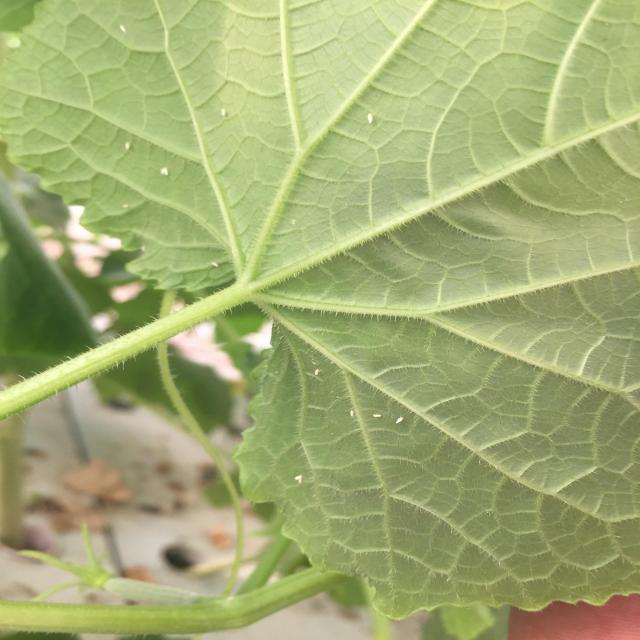Whitefly: (104, 122, 208, 196), (331, 388, 428, 436), (347, 98, 415, 149), (90, 12, 170, 51), (276, 455, 336, 500), (208, 90, 256, 126)
